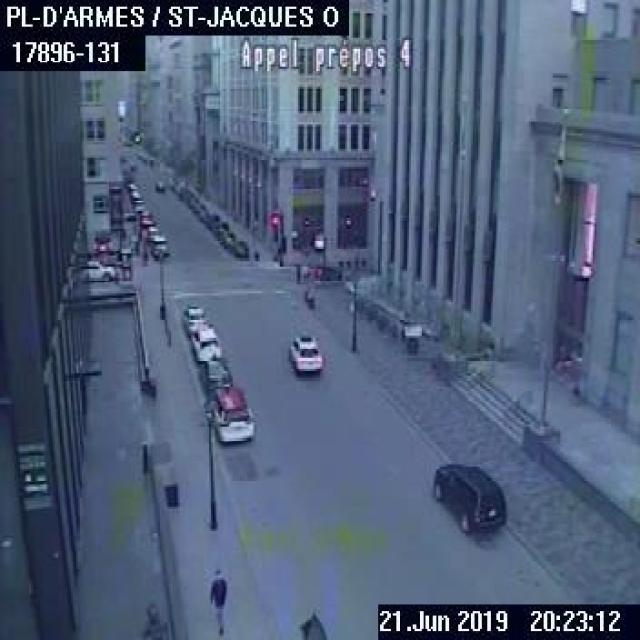pedestrian: (204, 564, 227, 634)
vehicle: (431, 458, 507, 533), (202, 385, 252, 441), (289, 335, 320, 373), (190, 324, 219, 360), (198, 356, 230, 388), (180, 302, 206, 334), (86, 257, 114, 280), (149, 233, 166, 256), (231, 235, 247, 256), (218, 229, 234, 246), (139, 209, 152, 224), (132, 197, 144, 212), (145, 224, 156, 240), (153, 179, 164, 191)
